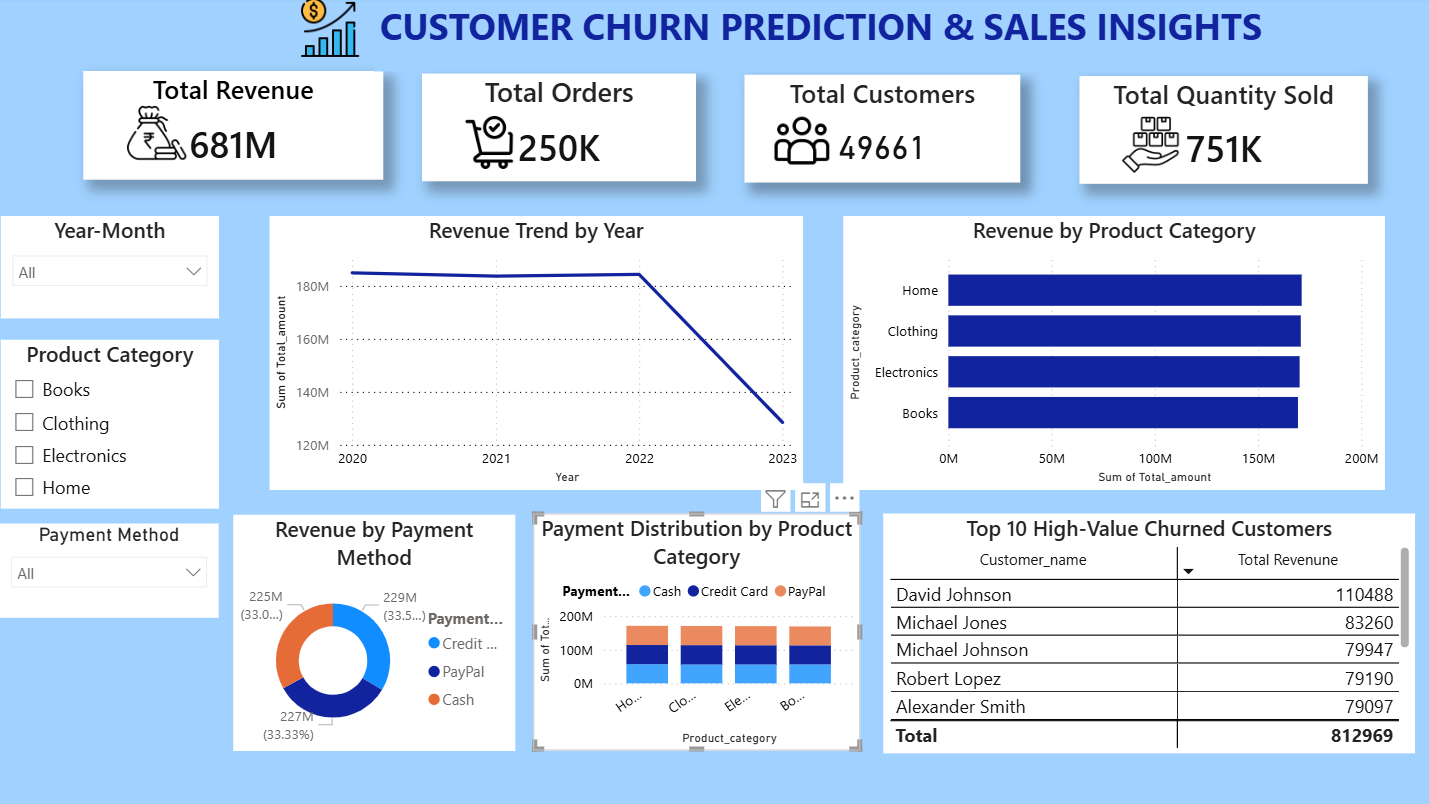

Layout of this report page (visuals, bound fields, positions):
{"tool":"powerbi","page":{"name":"Page 1","canvas":[1280,720],"ordinal":0},"visuals":[{"type":"card","title":"Total Customers","fields":{"Values":["Count(new customer data (1).Customer_id)"]},"box":[665.7,70,245.7,95.7],"z":0},{"type":"barChart","title":"Revenue by Product Category","fields":{"Category":["new customer data (1).Product_category"],"Y":["Sum(new customer data (1).Total_amount)"]},"box":[753.8,196.2,482.5,243.8],"z":1000},{"type":"lineChart","title":"Revenue Trend by Year","fields":{"Category":["new customer data (1).Purchase_date.Variation.Date Hierarchy.Year","new customer data (1).Purchase_date.Variation.Date Hierarchy.Quarter","new customer data (1).Purchase_date.Variation.Date Hierarchy.Month","new customer data (1).Purchase_date.Variation.Date Hierarchy.Day"],"Y":["Sum(new customer data (1).Total_amount)"]},"box":[242.5,196.2,475,243.8],"z":2000},{"type":"donutChart","title":"Revenue by Payment Method","fields":{"Category":["new customer data (1).Payment_Method"],"Y":["Sum(new customer data (1).Total_amount)"]},"box":[210.5,461.6,251.2,210.5],"z":3000},{"type":"slicer","title":"Payment Method","fields":{"Values":["new customer data (1).Payment_Method"]},"box":[2.5,470,195,83.8],"z":4000},{"type":"cardVisual","title":"Total Quantity Sold","fields":{"Data":["new customer data (1).Total Quantity Sold"]},"box":[964.3,71.4,257.1,95.7],"z":5000},{"type":"columnChart","title":"Payment Distribution by Product Category","fields":{"Category":["new customer data (1).Product_category"],"Y":["Sum(new customer data (1).Total_amount)"],"Series":["new customer data (1).Payment_Method"]},"box":[477.5,461.2,291.2,211.2],"z":6000},{"type":"slicer","title":"Year-Month","fields":{"Values":["new customer data (1).year-month"]},"box":[2.9,195.7,194.3,91.4],"z":7000},{"type":"tableEx","title":"Top 10 High-Value Churned Customers","fields":{"Values":["new customer data (1).Customer_name","new customer data (1).Total Revenune"]},"box":[788.8,461.2,473.8,213.8],"z":8000},{"type":"cardVisual","title":"Total Orders","fields":{"Data":["new customer data (1).Total Orders"]},"box":[378.6,68.6,244.3,95.7],"z":9000},{"type":"cardVisual","title":"Total Revenue","fields":{"Data":["new customer data (1).Total Revenune"]},"box":[77.1,67.1,267.1,97.1],"z":10000},{"type":"slicer","title":" Product Category","fields":{"Values":["new customer data (1).Product_category"]},"box":[2.9,305.7,194.3,150],"z":11000},{"type":"image","box":[115.7,89.2,53,65.1],"z":12000},{"type":"image","box":[692.5,97.5,48.8,61.2],"z":13000},{"type":"image","box":[400,107.1,77.1,47.1],"z":14000},{"type":"image","box":[995.7,107.1,64.3,51.4],"z":15000},{"type":"image","box":[243,0,108.1,55.8],"z":16000},{"type":"textbox","box":[336,0,875.6,67.4],"z":17000}]}

Visuals, with their boxes in screenshot pixels (x1, y1, x2, y2), scaled from the page's 1280x720 canvas onto the 1429x804 screenshot:
"Total Customers" card: (743,78,1017,185)
"Revenue by Product Category" barChart: (842,219,1380,491)
"Revenue Trend by Year" lineChart: (271,219,801,491)
"Revenue by Payment Method" donutChart: (235,515,515,751)
"Payment Method" slicer: (3,525,220,618)
"Total Quantity Sold" cardVisual: (1077,80,1364,187)
"Payment Distribution by Product Category" columnChart: (533,515,858,751)
"Year-Month" slicer: (3,219,220,321)
"Top 10 High-Value Churned Customers" tableEx: (881,515,1410,754)
"Total Orders" cardVisual: (423,77,695,183)
"Total Revenue" cardVisual: (86,75,384,183)
" Product Category" slicer: (3,341,220,509)
image: (129,100,188,172)
image: (773,109,828,177)
image: (447,120,533,172)
image: (1112,120,1183,177)
image: (271,0,392,62)
textbox: (375,0,1353,75)
